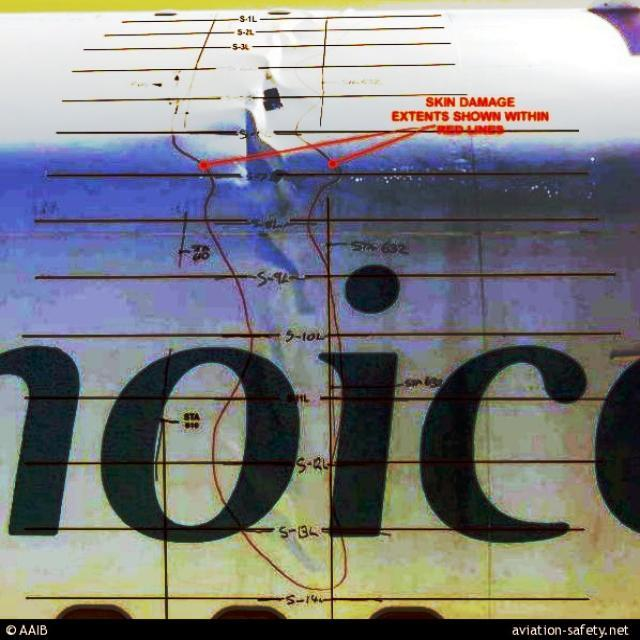dent: (252, 228, 318, 323), (228, 108, 282, 185), (263, 26, 299, 88)
